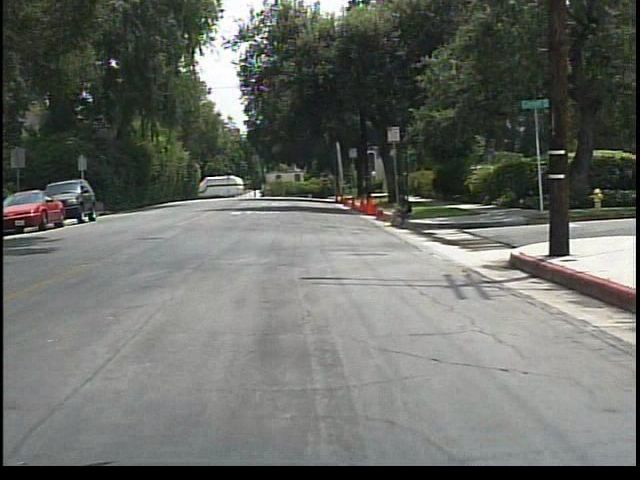person: (387, 191, 419, 233)
